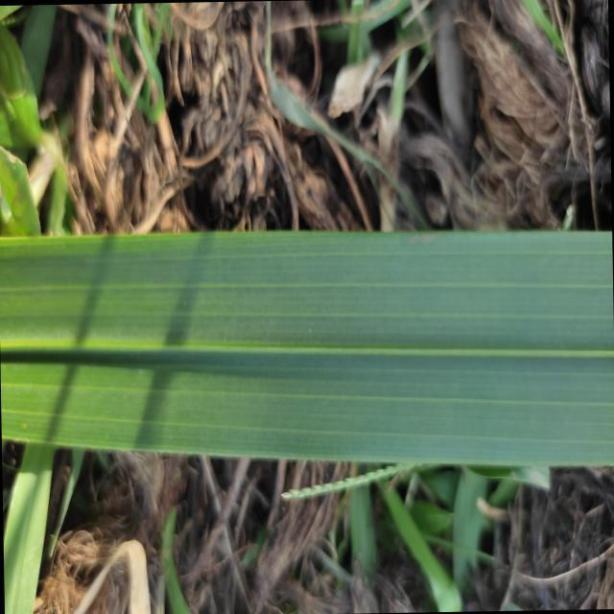Healthy: (0, 229, 614, 467)
